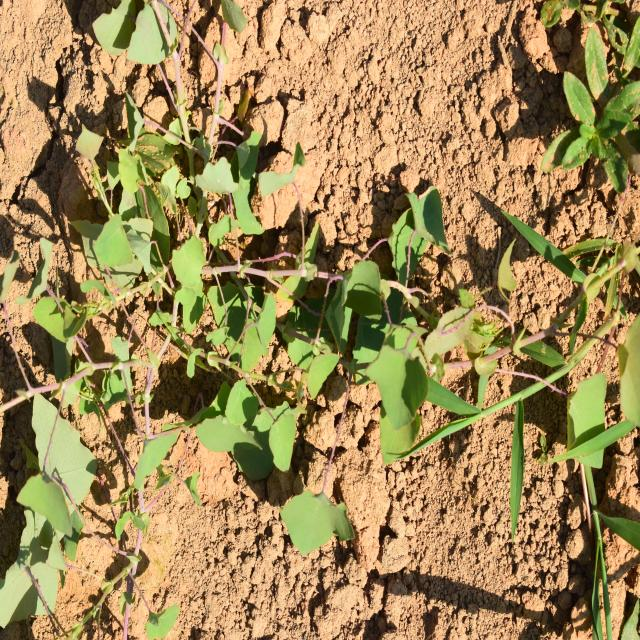Asiatic_Smartweed: (189, 289, 355, 548), (79, 113, 296, 299), (334, 173, 448, 466), (0, 375, 111, 606)
